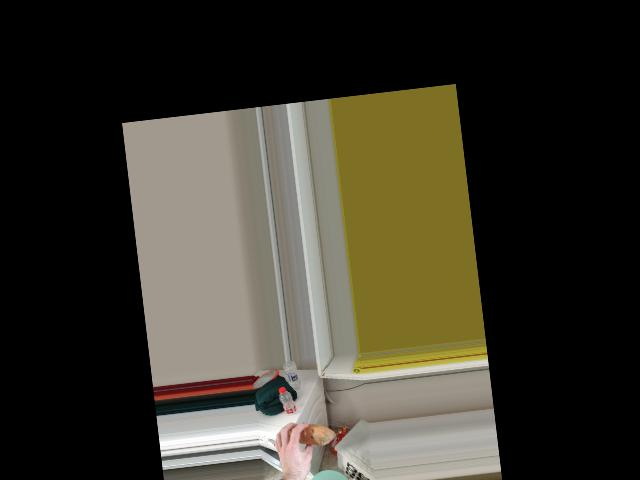sweet_potato: (292, 424, 327, 443)
